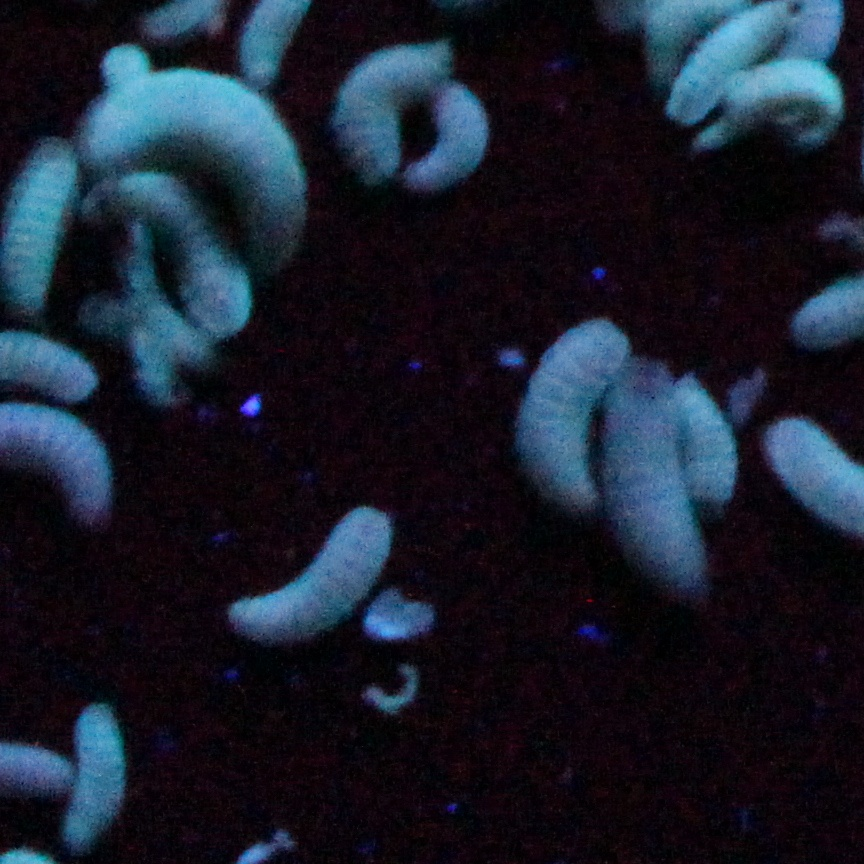larve: (85, 63, 318, 268), (589, 342, 712, 603), (198, 484, 394, 640), (97, 166, 249, 337), (506, 320, 618, 520), (326, 30, 453, 182), (54, 696, 132, 845), (674, 365, 738, 503), (419, 76, 487, 198)
